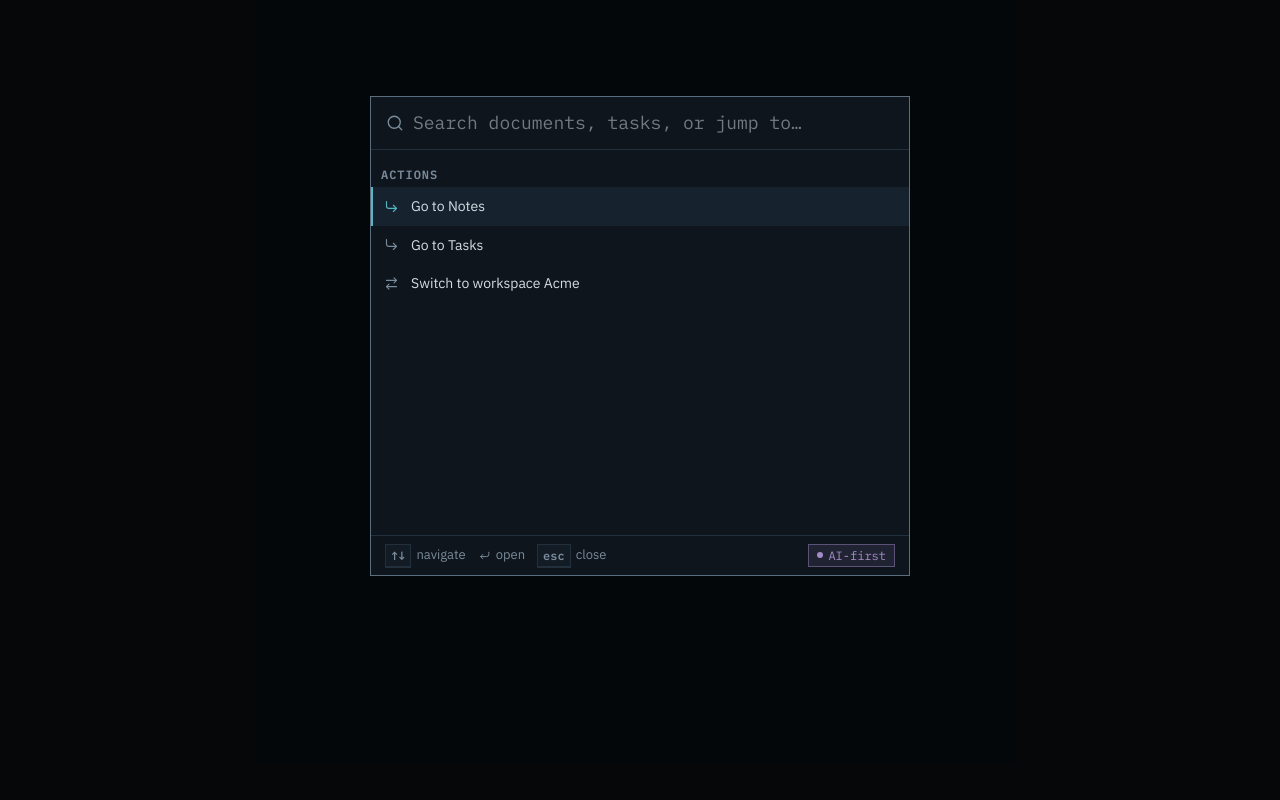
Test: CommandPalette (REQ-W23/W24) › queries the search API (debounced) and shows ranked hits
In the field with placeholder "Search documents, tasks, or jump to…": (654, 123) [413,110,894,136], type "shell"
Wait 250 ms
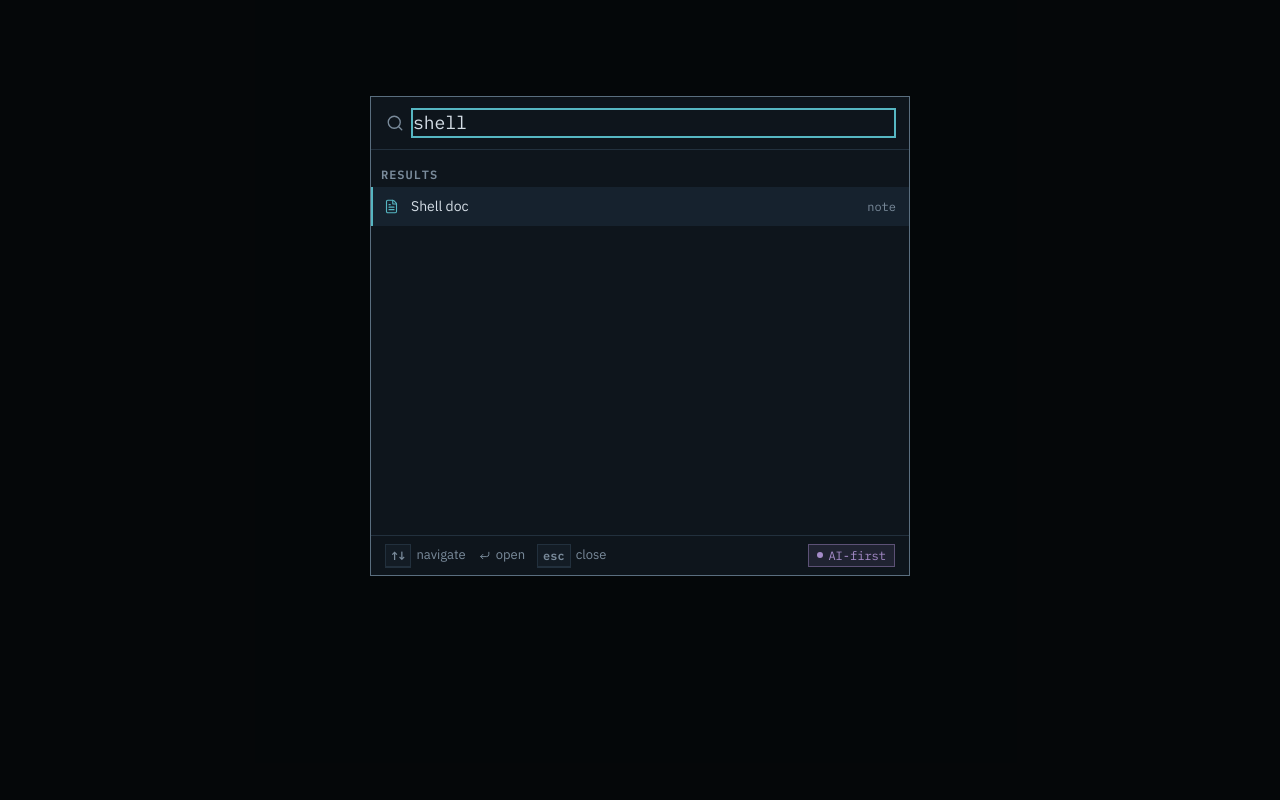
Expected: the text "Shell doc" is shown, [411,198,469,216]
